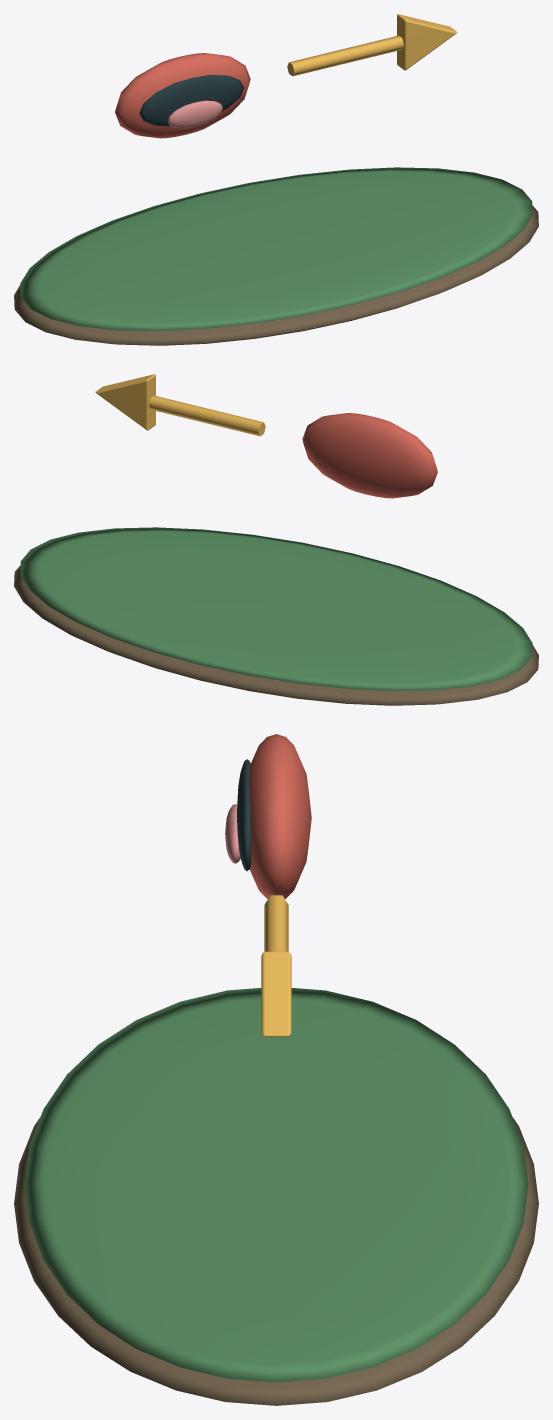
Rendered from sound-toward.glb.
3 views of the same model, one above another, from view 1: azimuth 30°, elevation 25°; view 2: azimuth 150°, elevation 25°; view 3: azimuth 270°, elevation 25° (orthographic). The views are drawn at different scales.
Visible parts, largest first — view 1: sound-toward_surface_01, sound-toward_surface_00, sound-toward_surface_02, sound-toward_surface_05, sound-toward_surface_03, sound-toward_surface_04; view 2: sound-toward_surface_01, sound-toward_surface_00, sound-toward_surface_02, sound-toward_surface_05; view 3: sound-toward_surface_01, sound-toward_surface_00, sound-toward_surface_02, sound-toward_surface_05, sound-toward_surface_03.
Boxes of the visible parts, bbox=[...] form: sound-toward_surface_01: bbox=[20, 167, 532, 331]; sound-toward_surface_00: bbox=[14, 205, 538, 345]; sound-toward_surface_02: bbox=[115, 53, 250, 138]; sound-toward_surface_05: bbox=[287, 14, 457, 76]; sound-toward_surface_03: bbox=[139, 75, 243, 126]; sound-toward_surface_04: bbox=[167, 100, 222, 128]; sound-toward_surface_01: bbox=[20, 527, 532, 691]; sound-toward_surface_00: bbox=[14, 565, 538, 705]; sound-toward_surface_02: bbox=[302, 413, 437, 498]; sound-toward_surface_05: bbox=[95, 374, 265, 436]; sound-toward_surface_01: bbox=[24, 988, 528, 1382]; sound-toward_surface_00: bbox=[14, 1117, 538, 1405]; sound-toward_surface_02: bbox=[249, 734, 311, 898]; sound-toward_surface_05: bbox=[261, 895, 291, 1036]; sound-toward_surface_03: bbox=[237, 759, 251, 871].
Size of the model in its own units: 4.56 by 2.1 by 2.5.
